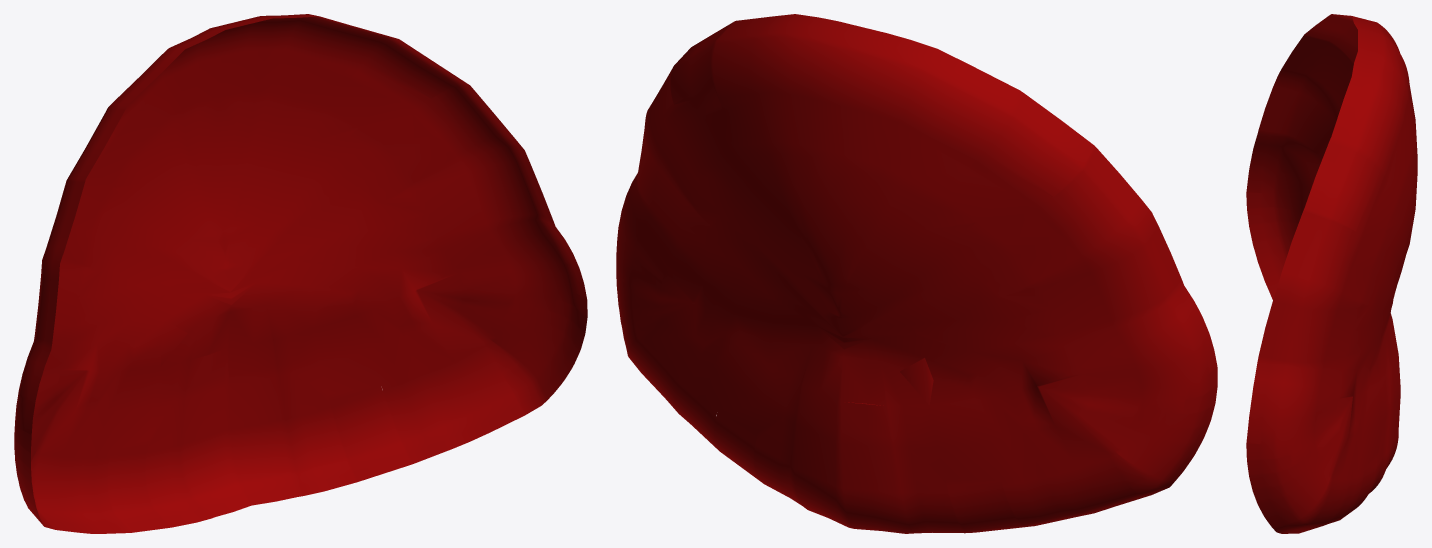
The model's file is original-11.obj.
3 views of the same model, side by side, from view 1: azimuth 30°, elevation 25°; view 2: azimuth 150°, elevation 25°; view 3: azimuth 270°, elevation 25° (orthographic). The views are drawn at different scales.
Parts seen in each view (by area): view 1: Group6/mesh8/mesh8-geometry#mesh8-geometry; view 2: Group6/mesh8/mesh8-geometry#mesh8-geometry; view 3: Group6/mesh8/mesh8-geometry#mesh8-geometry.
Part boxes in pixels (x1,y1,x2,y2): Group6/mesh8/mesh8-geometry#mesh8-geometry: (14,14,587,533); Group6/mesh8/mesh8-geometry#mesh8-geometry: (616,14,1217,533); Group6/mesh8/mesh8-geometry#mesh8-geometry: (1246,14,1417,533).
Bounding box in the file's own units: 0.7581 × 0.6231 × 0.2178.
